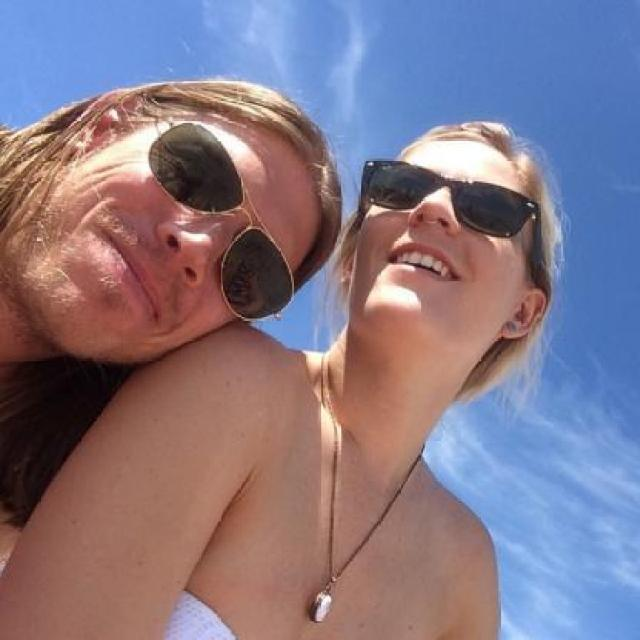face_nomask: (64, 128, 302, 346), (360, 144, 529, 324)
glasses: (122, 63, 306, 345), (346, 145, 557, 258)
head_nohelmet: (258, 54, 358, 226), (390, 106, 552, 163)
